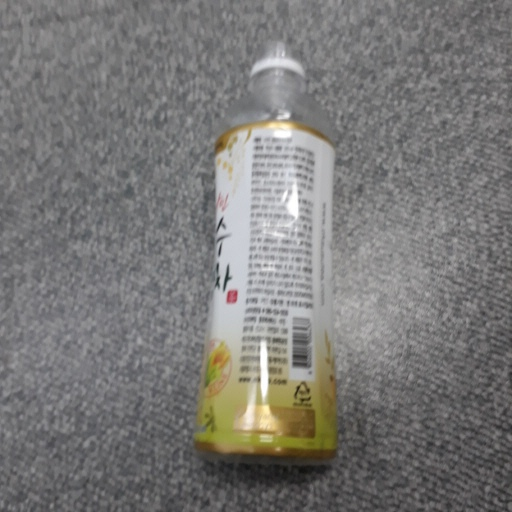Plastic_0: (195, 44, 348, 470)
